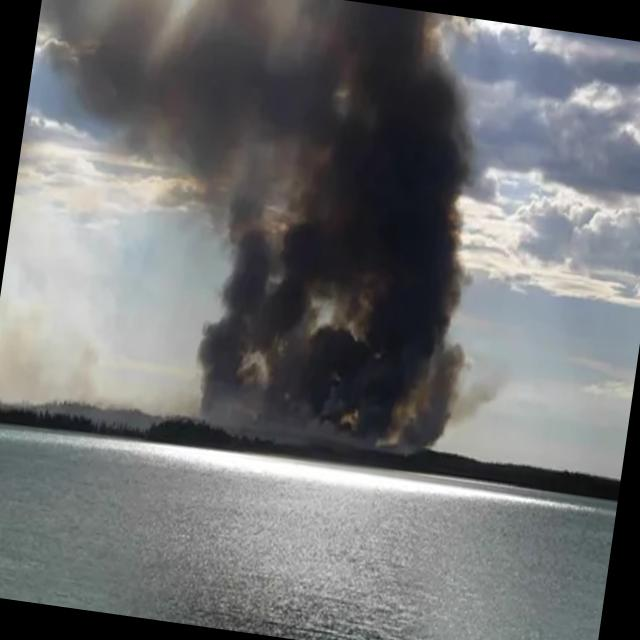Smoke: (180, 0, 514, 456)
